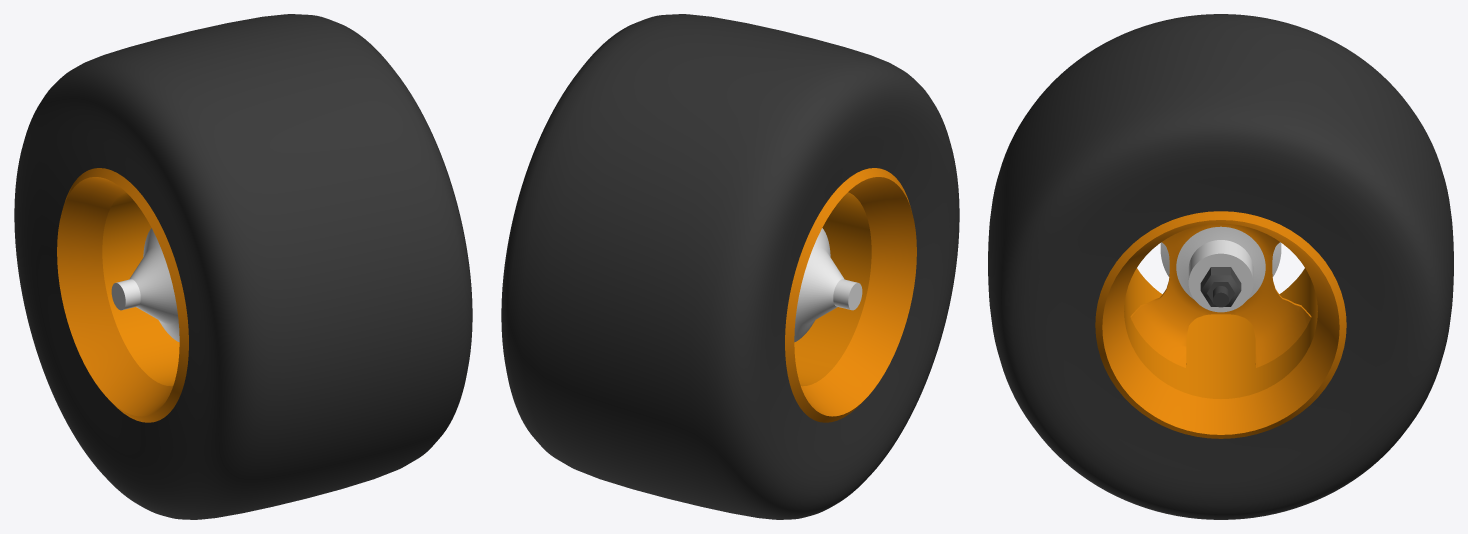
The model's file is slick.fbx.
3 renders of one model, left to right at view 1: azimuth 30°, elevation 25°; view 2: azimuth 150°, elevation 25°; view 3: azimuth 270°, elevation 25°, orthographic. The views are drawn at different scales.
Parts seen in each view (by area): view 1: Cylinder.001; view 2: Cylinder.001; view 3: Cylinder.001.
Part boxes in pixels (x1,y1,x2,y2): Cylinder.001: [14, 14, 472, 519]; Cylinder.001: [501, 14, 959, 519]; Cylinder.001: [988, 14, 1453, 519].
Size of the model in its own units: 209 by 346 by 346.
